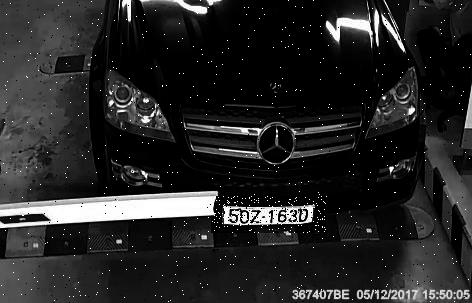License-plate: (213, 197, 329, 234)
